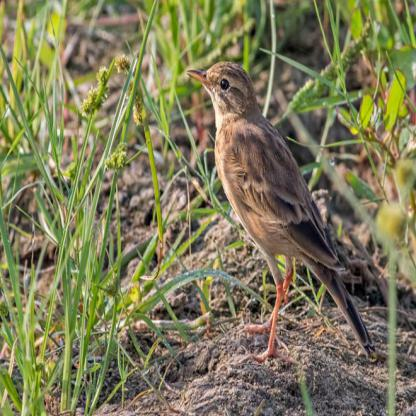Burung: (185, 62, 378, 365)
